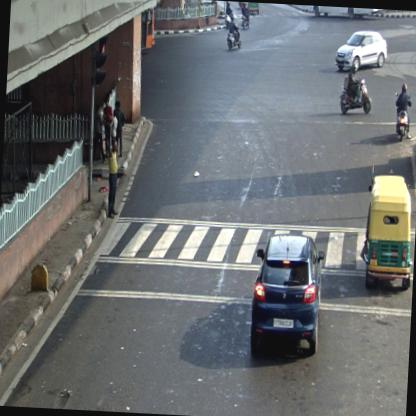bus: (306, 5, 385, 24)
car: (250, 229, 324, 356), (334, 30, 388, 72)
motorcycle: (336, 70, 372, 115), (392, 85, 412, 142), (225, 19, 241, 52), (224, 1, 236, 26), (240, 2, 250, 28)
